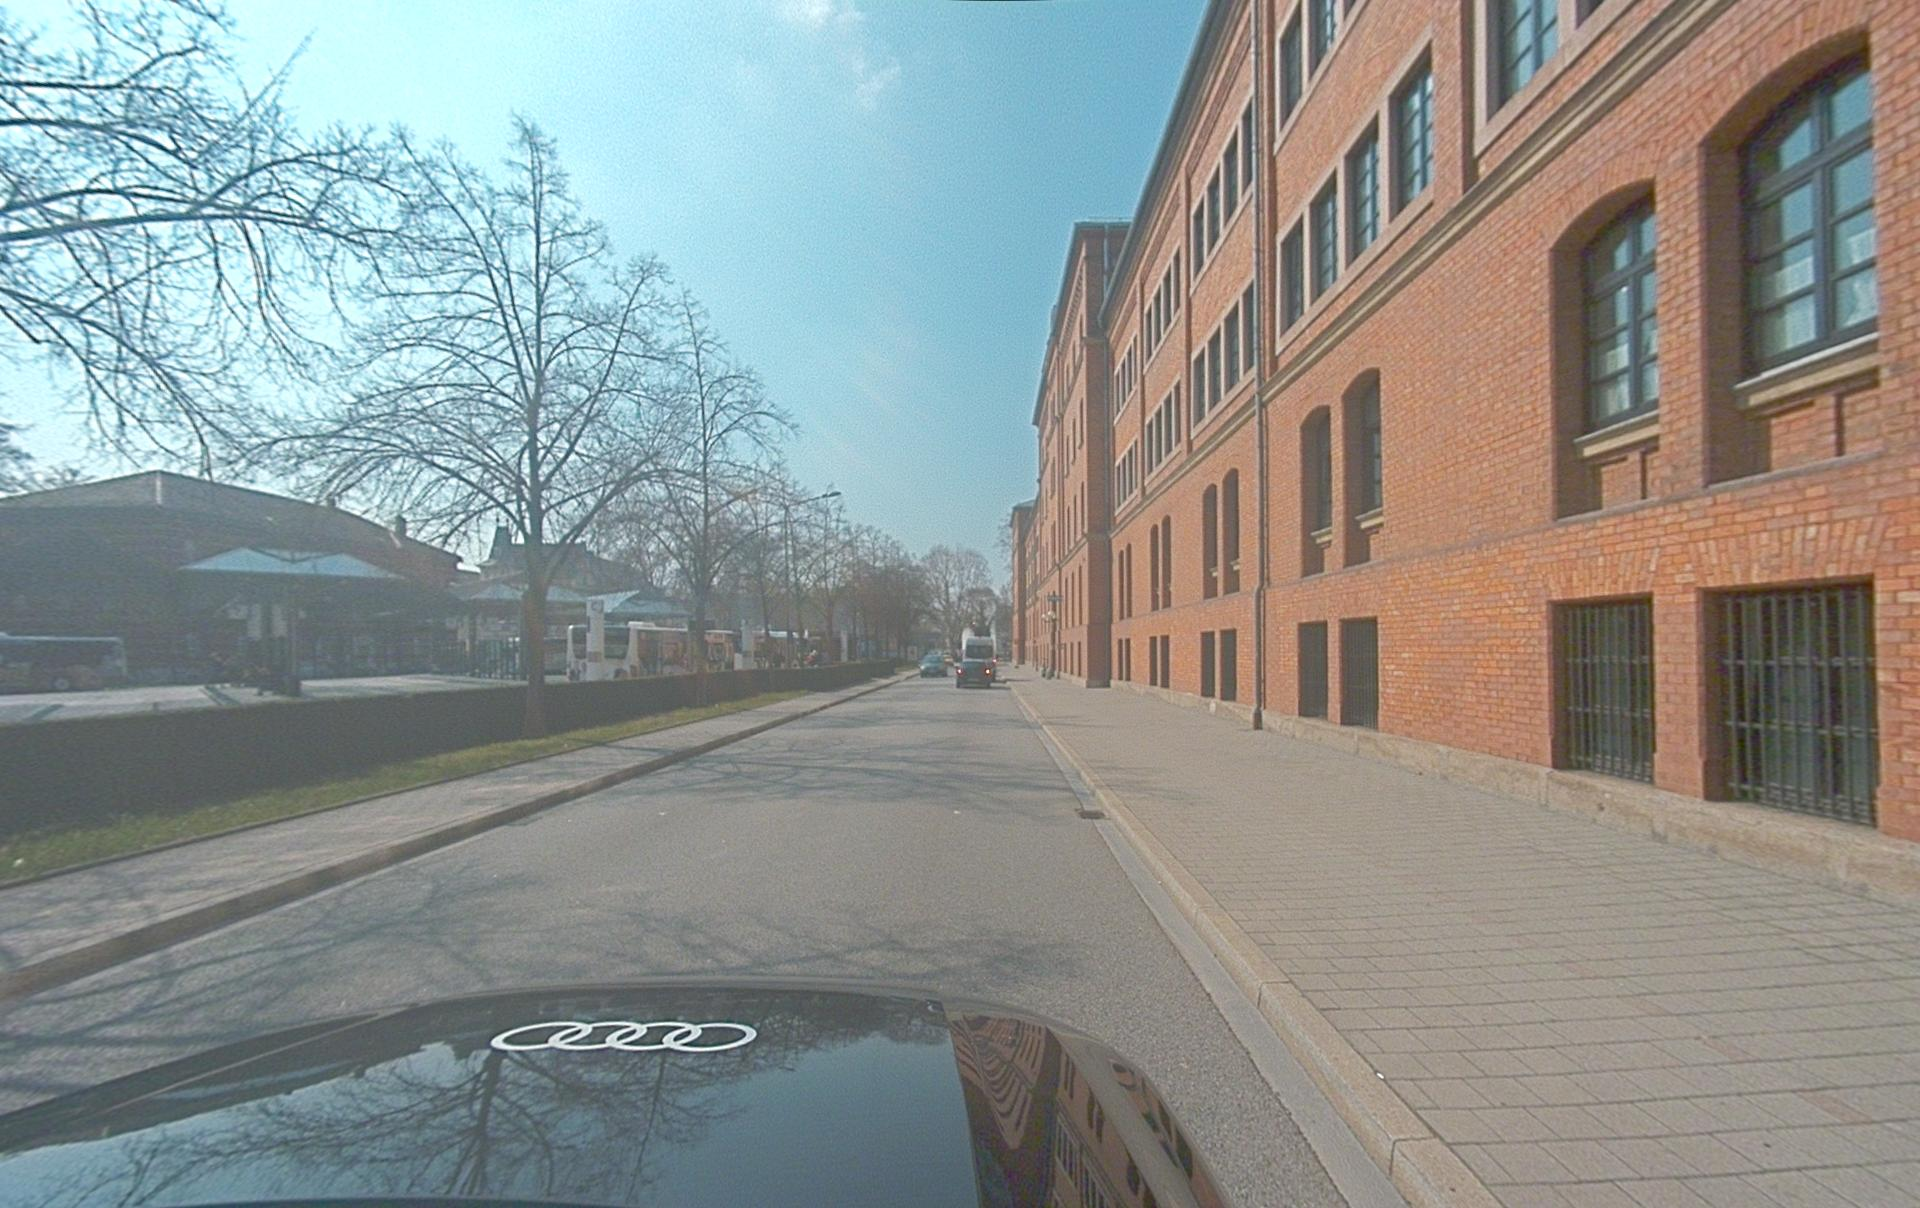car: (920, 653, 947, 678)
